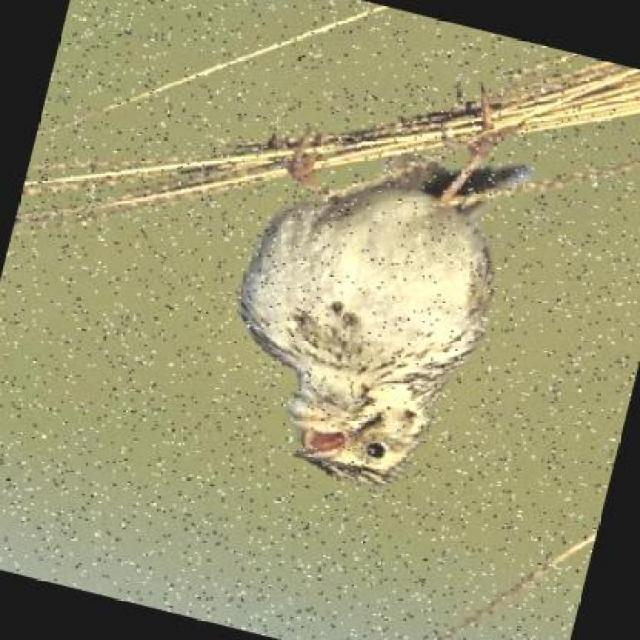Bird: (257, 109, 536, 491)
